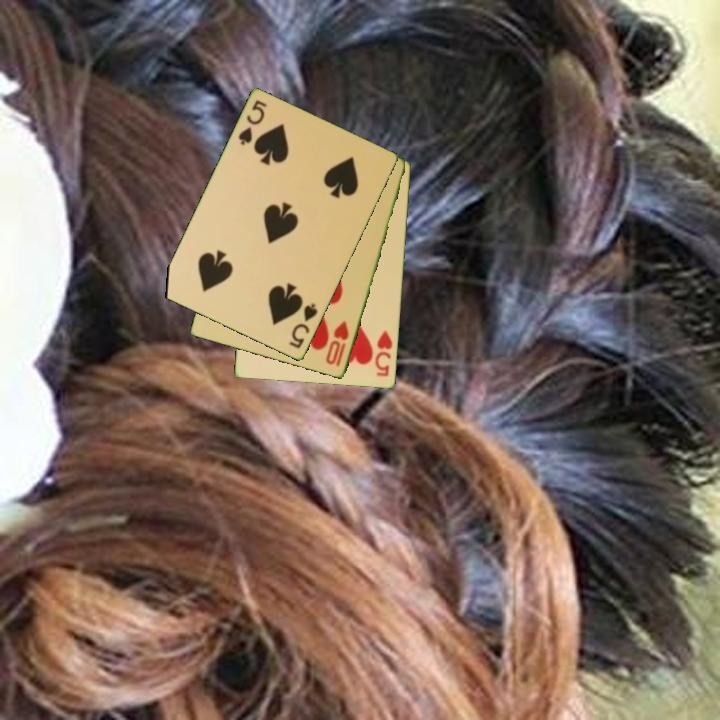10h: (322, 317, 352, 370)
5h: (372, 328, 395, 379)
5s: (286, 300, 321, 352), (235, 97, 270, 149)
